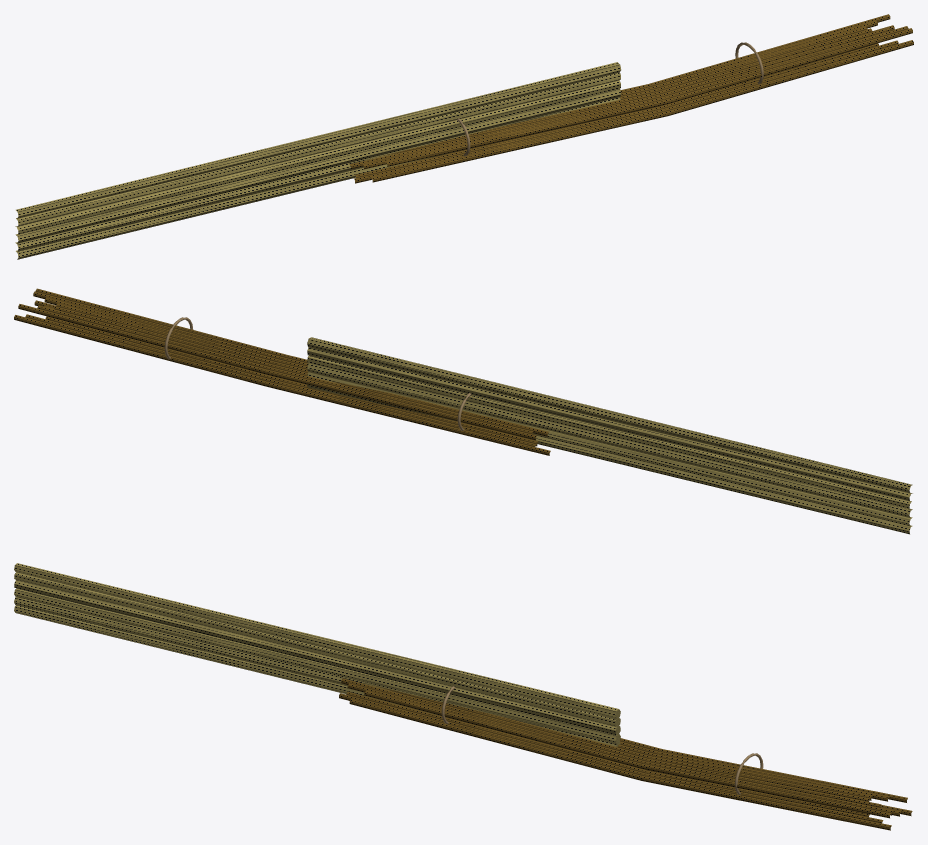
The model's file is bamboo_stack.glb.
3 renders of one model, top to bottom at view 1: azimuth 30°, elevation 25°; view 2: azimuth 150°, elevation 25°; view 3: azimuth 330°, elevation 25°, orthographic.
Parts seen in each view (by area): view 1: Art_BambooRind, Str5, Str2, Str3, Str4, Str1, Str0; view 2: Art_BambooRind, Str5, Str2, Str3, Str4, Str1, Str0; view 3: Art_BambooRind, Str5, Str2, Str3, Str4, Str1, Str0.
Boxes of the visible parts, box(x1,y1,x2,y2) form: Art_BambooRind: box(349, 14, 913, 183); Str5: box(16, 62, 621, 218); Str2: box(15, 88, 621, 243); Str3: box(15, 80, 620, 234); Str4: box(16, 72, 620, 226); Str1: box(15, 97, 620, 251); Str0: box(16, 151, 455, 259); Art_BambooRind: box(14, 288, 550, 455); Str5: box(307, 337, 912, 493); Str2: box(307, 363, 912, 517); Str3: box(307, 355, 911, 509); Str4: box(307, 347, 912, 501); Str1: box(307, 372, 912, 526); Str0: box(307, 384, 912, 534); Art_BambooRind: box(339, 678, 912, 830); Str5: box(14, 563, 620, 719); Str2: box(14, 588, 620, 743); Str3: box(14, 580, 620, 735); Str4: box(14, 572, 620, 727); Str1: box(14, 597, 620, 746); Str0: box(14, 605, 440, 715).
Size of the model in its own units: 3.39 by 0.1933 by 0.1845.
Materials: 3 (2 with a texture image).
